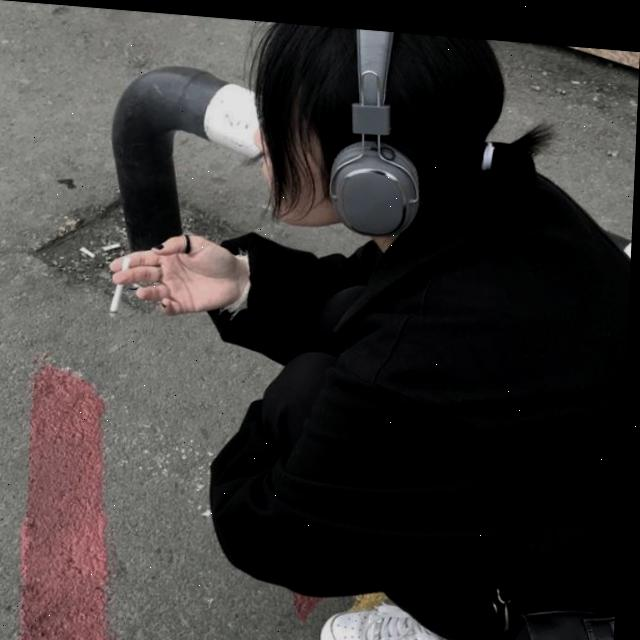cigarette: (111, 253, 133, 316)
